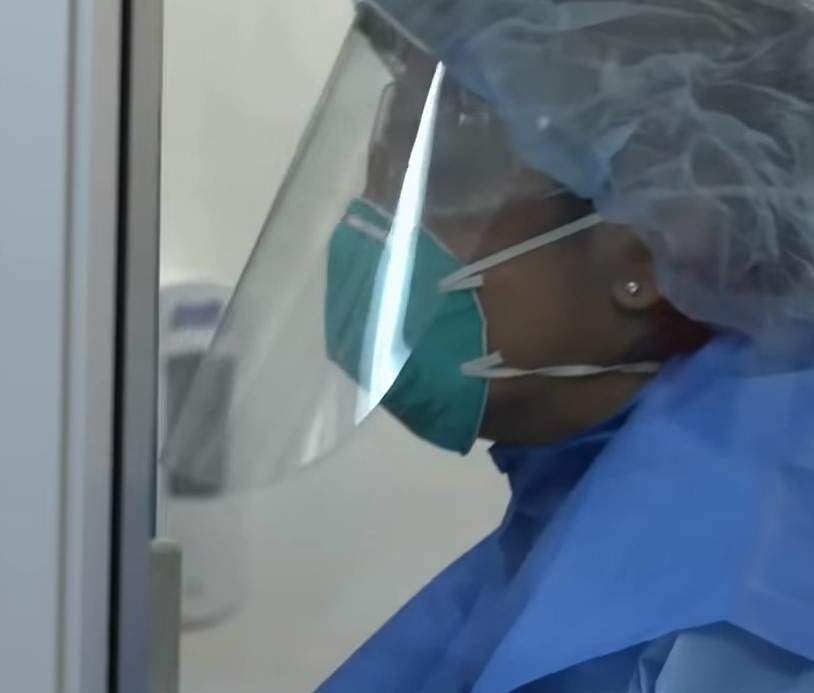face_with_mask: (147, 0, 814, 492)
